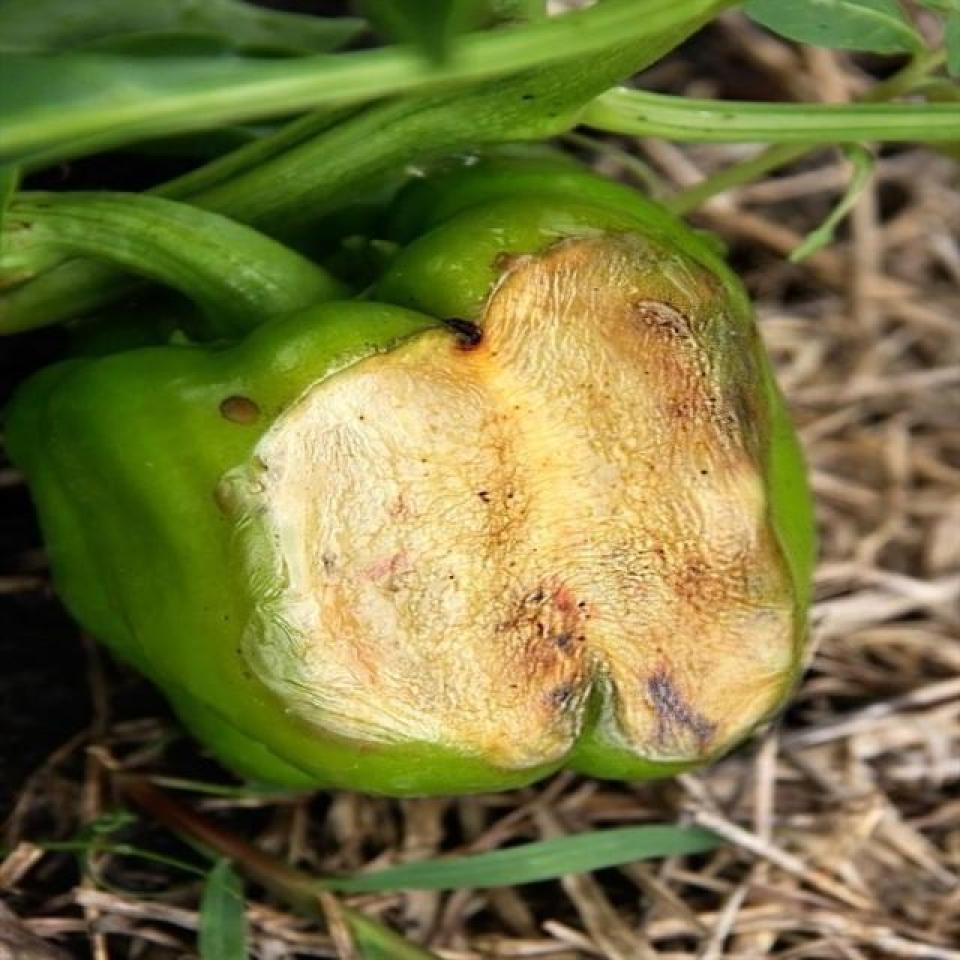Sunscald: (184, 244, 830, 761)
